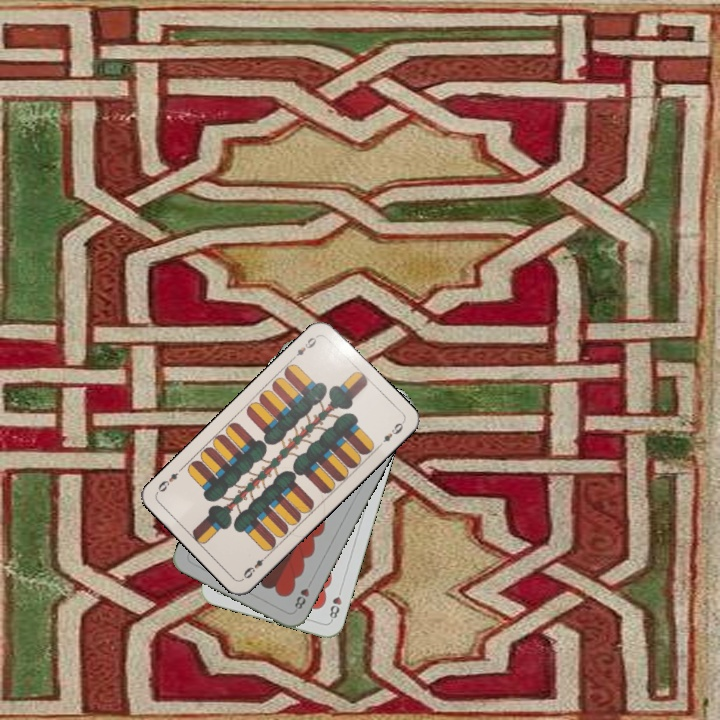E9: (287, 331, 320, 363), (239, 550, 271, 581)
H8: (290, 576, 315, 612), (325, 584, 345, 624)
